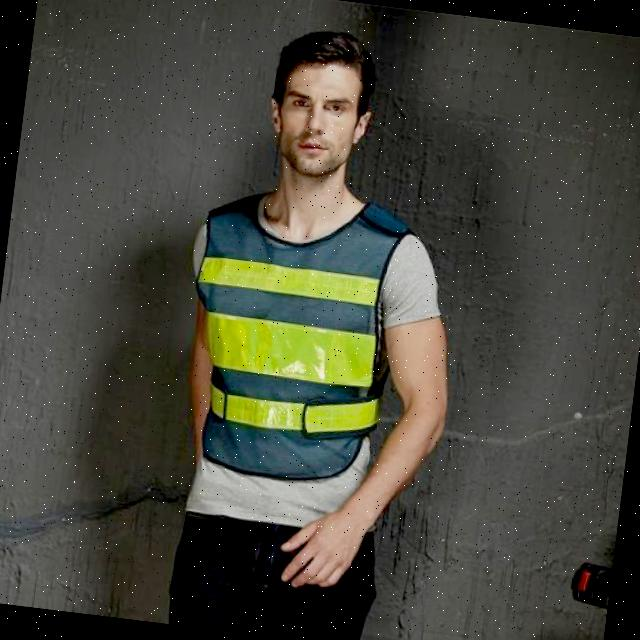vest: (180, 184, 414, 488)
